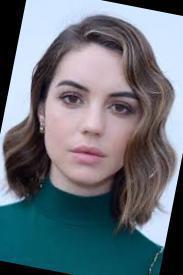Sober: (51, 55, 135, 180)
